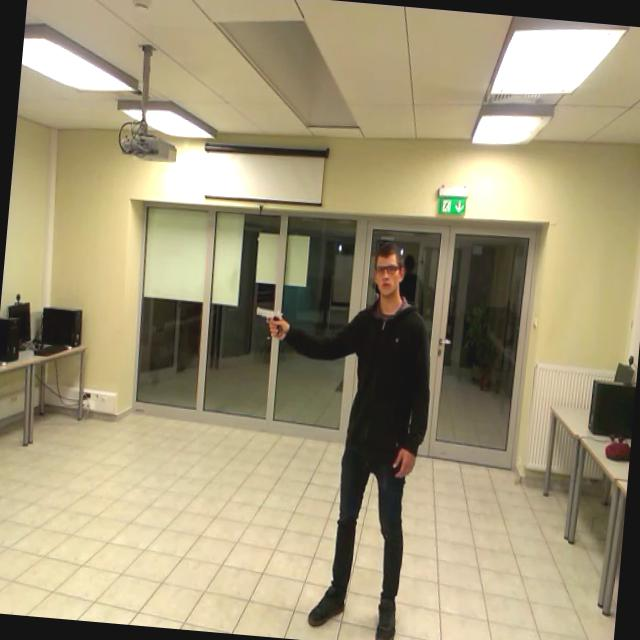handgun: (246, 296, 292, 352)
